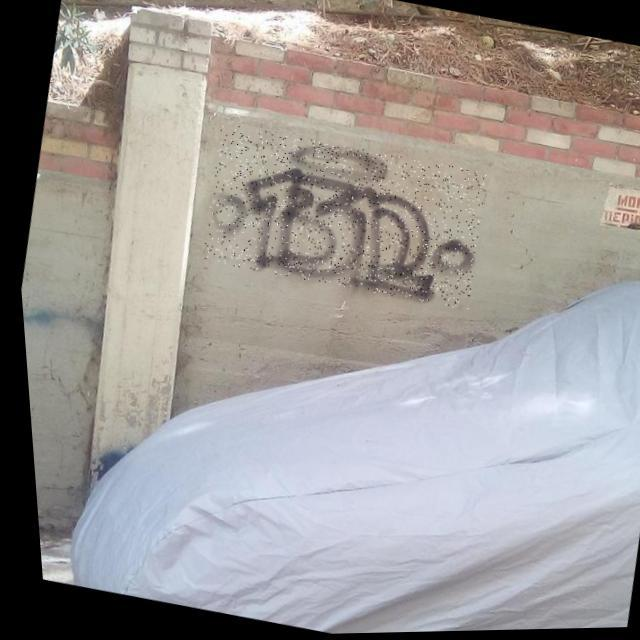-: (190, 120, 491, 316)
